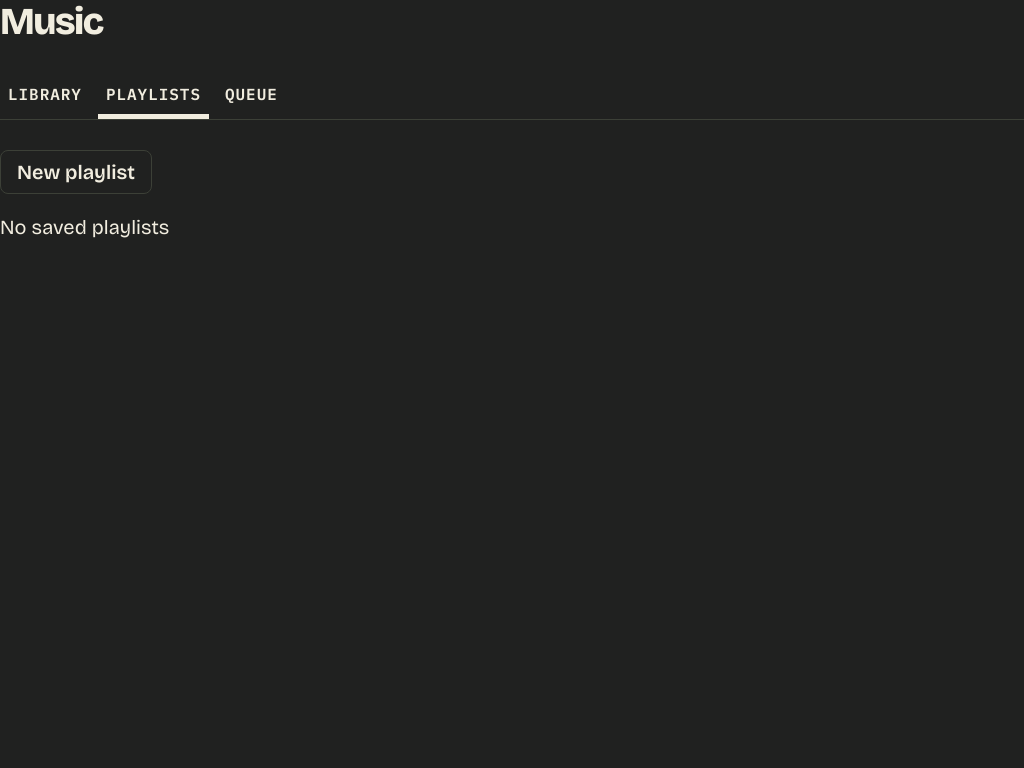
it: finishes Save and closes the confirmation when the list cannot refresh
Click the button "New playlist": [76, 172] box [0,150,152,194]
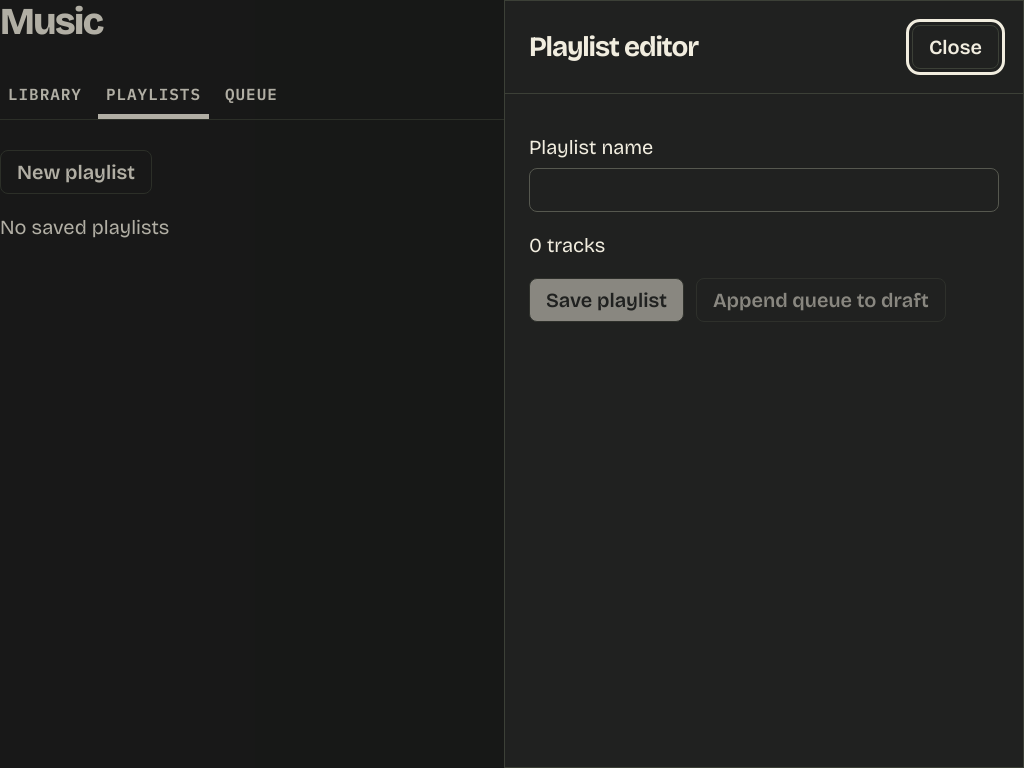
In the field labelled "Playlist name": [764, 190] box [529,168,999,212], type "Road trip"
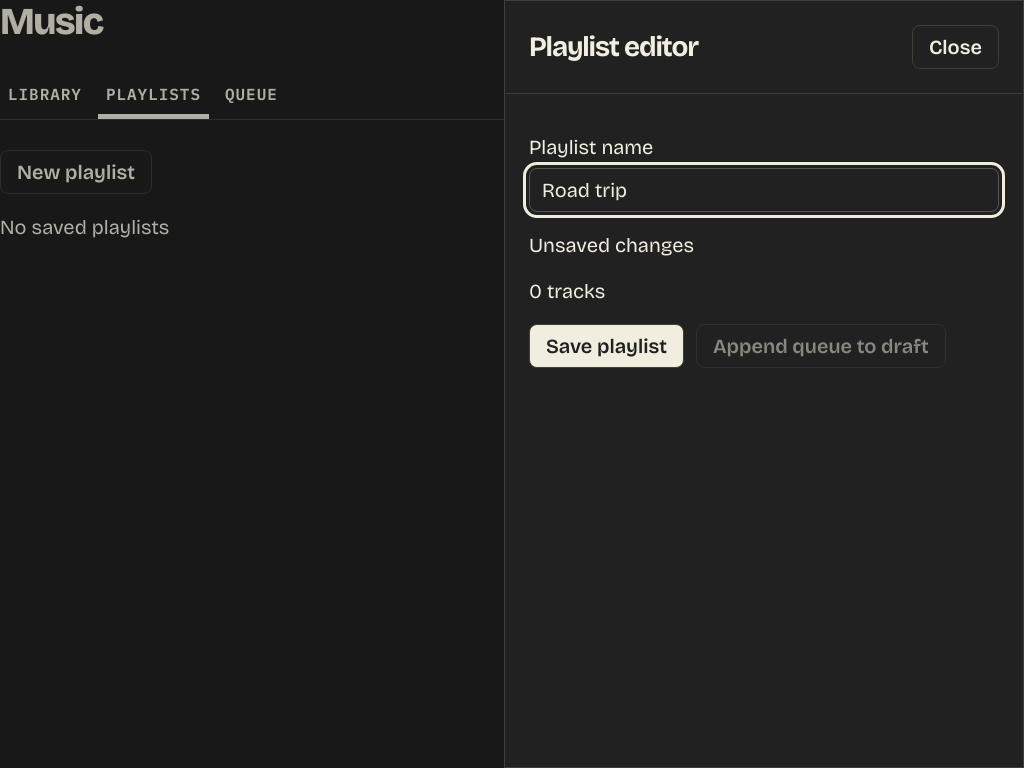
Click the button "Close": [955, 47] box [912,25,999,69]
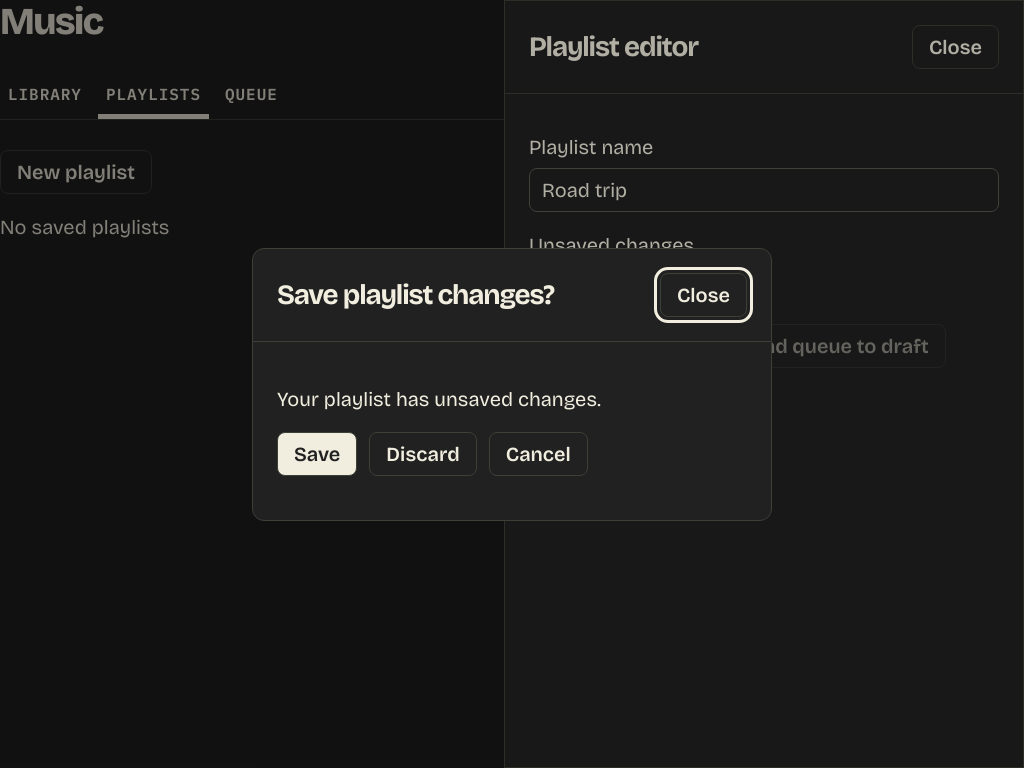
Click the button "Save": [317, 454] box [277,432,357,476]
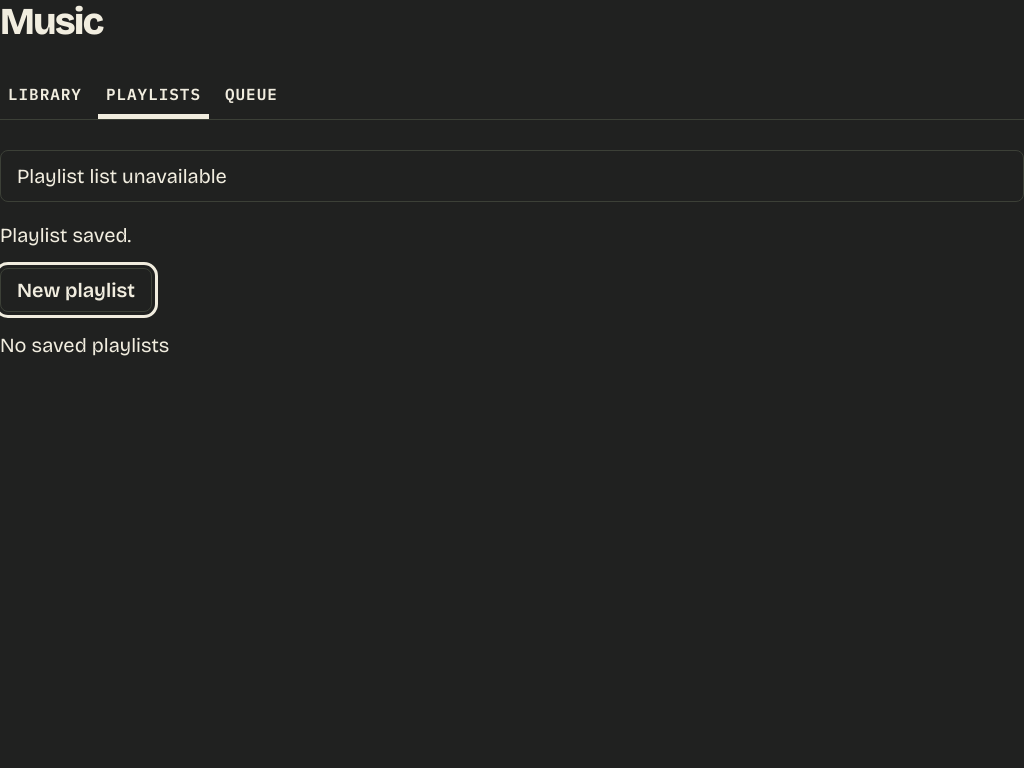
Expected: the message "Playlist list unavailable" is shown, [0,150,1023,202]
Expected: the dialog is gone
Expected: the message "Playlist saved." is shown, [0,223,131,247]
